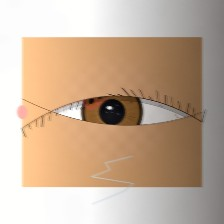foreign_body_visible: (81, 80, 119, 111)
